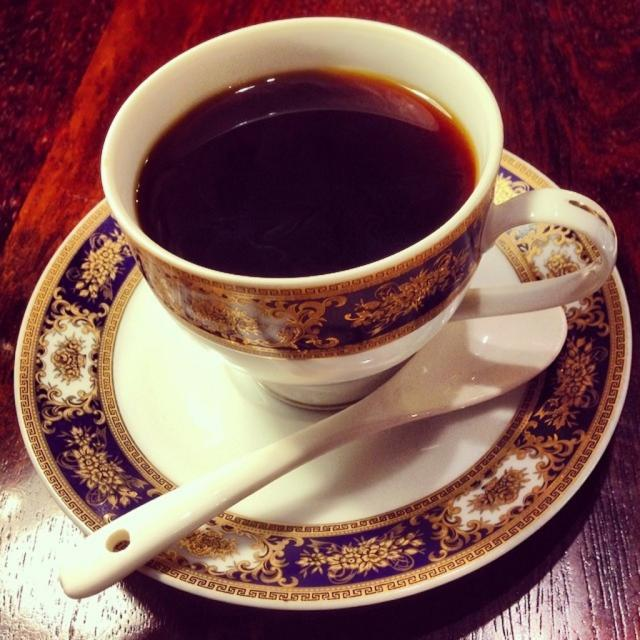Tea: (138, 66, 476, 274)
